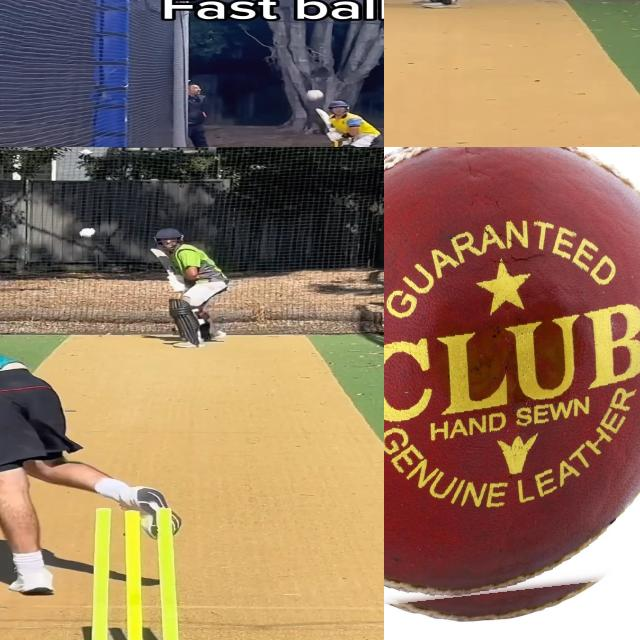Cricket ball: (384, 147, 640, 623), (303, 90, 325, 103), (77, 228, 97, 240)
Stumps: (81, 506, 187, 640)
